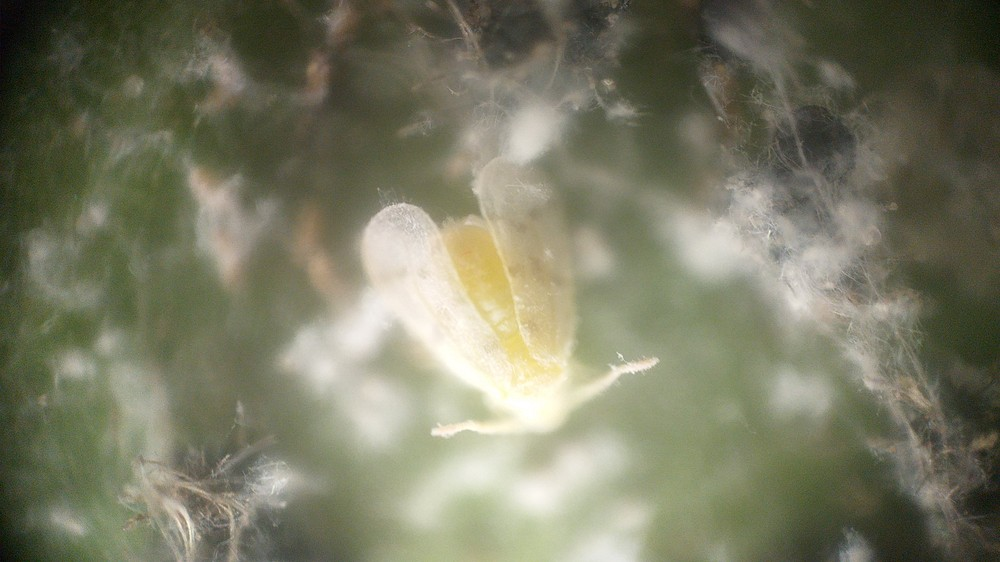Mosca Blanca: (354, 160, 667, 470)
